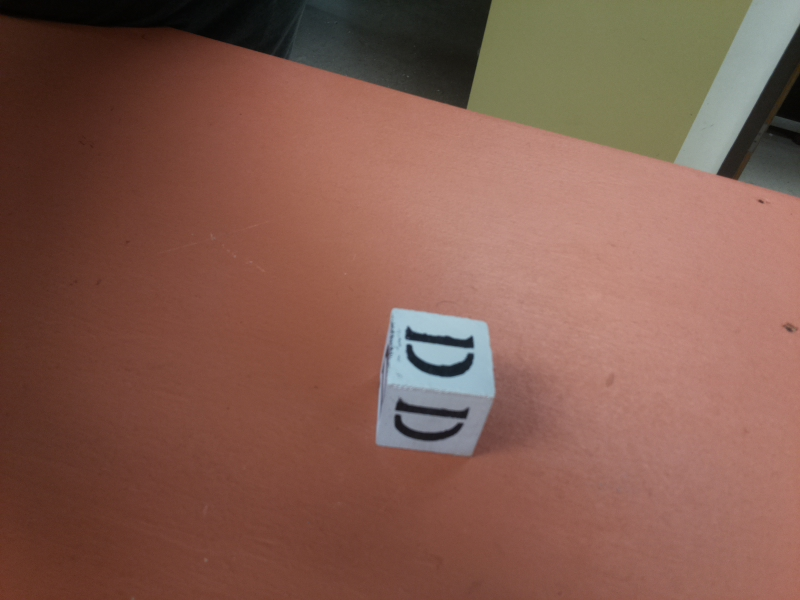blockD: (371, 303, 497, 457)
